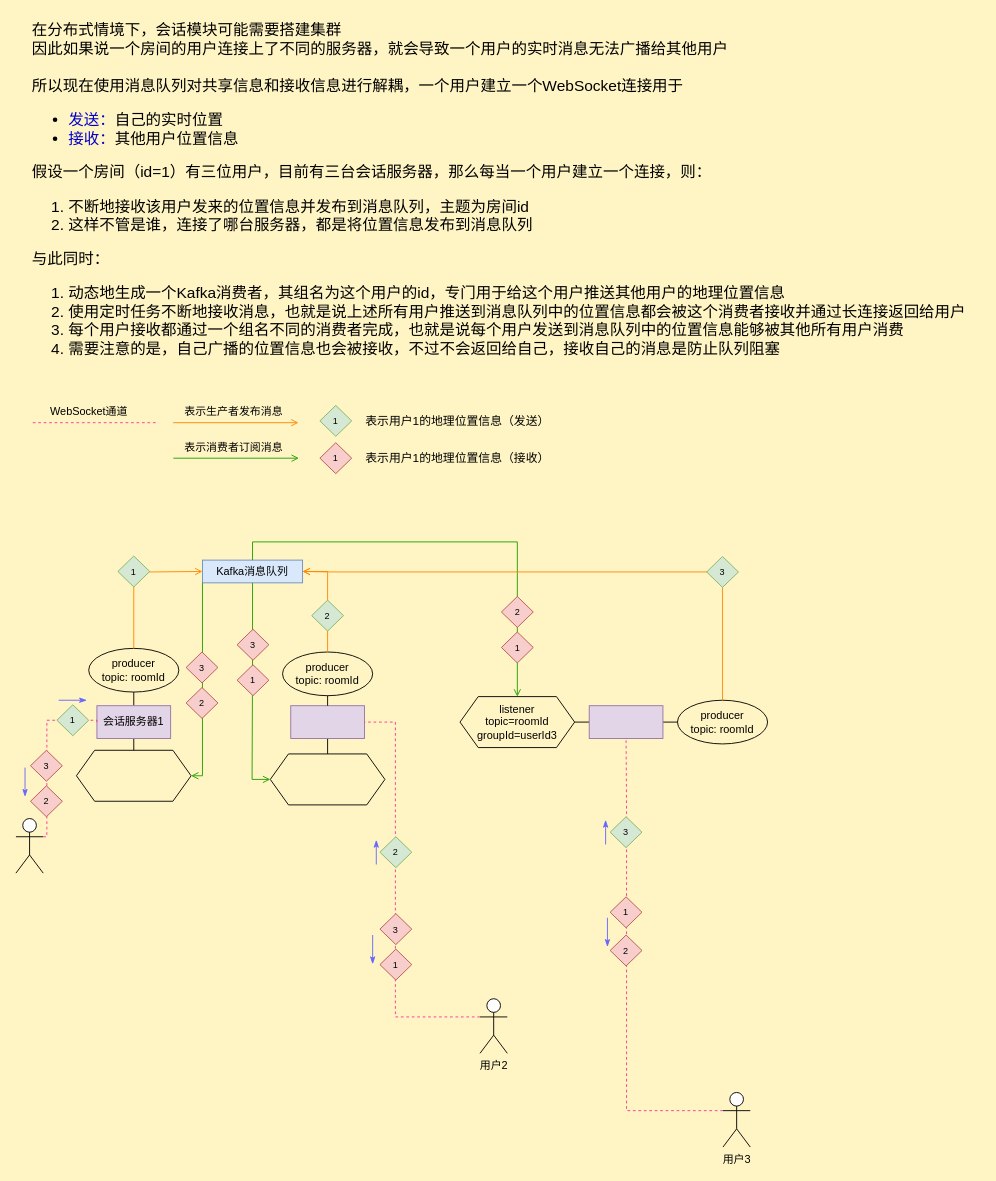
Image size: 996x1181. Some labels were removed from this diagram. The box of each missing label's shape, as (x1, y1, x2, y2) in pixels:
listener topic=roomId groupId=userId1: (76, 749, 191, 801)
listener topic=roomId groupId=userId2: (269, 753, 385, 805)
会话服务器2: (290, 705, 364, 738)
会话服务器3: (588, 705, 663, 738)
用户1: (15, 818, 43, 873)
